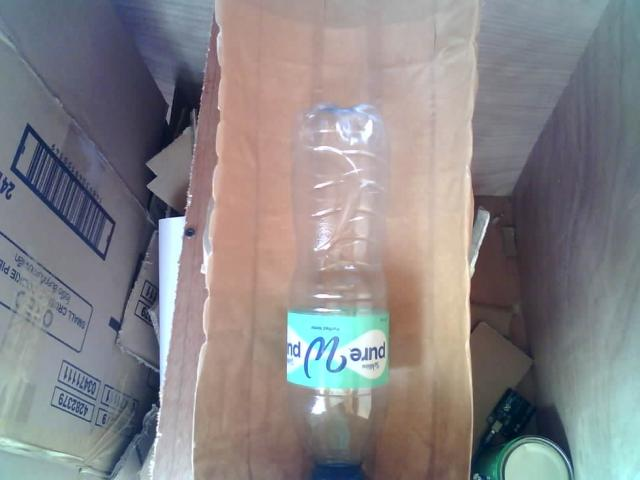small_bottle: (261, 95, 406, 480)
